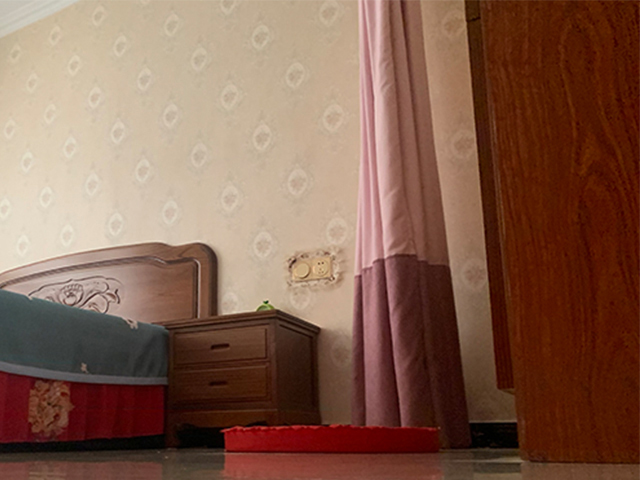bed: (1, 241, 217, 449)
cabinet: (162, 306, 320, 451)
curtain: (350, 1, 473, 451)
